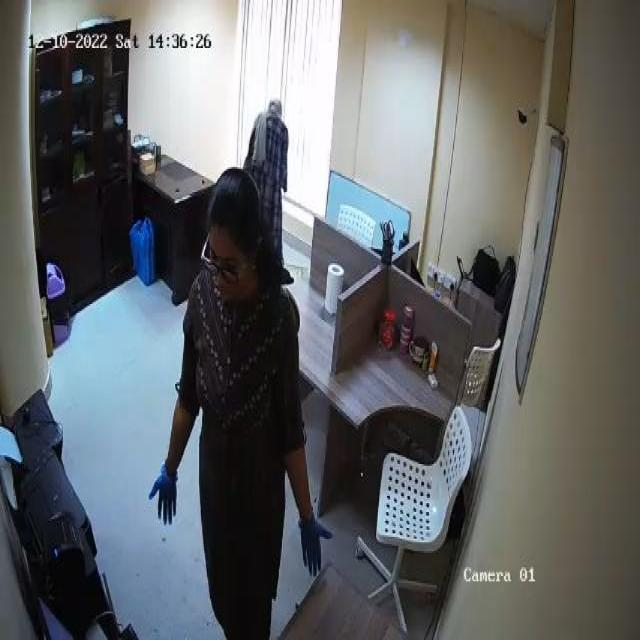gloved_hand: (298, 517, 334, 578), (148, 460, 181, 524)
